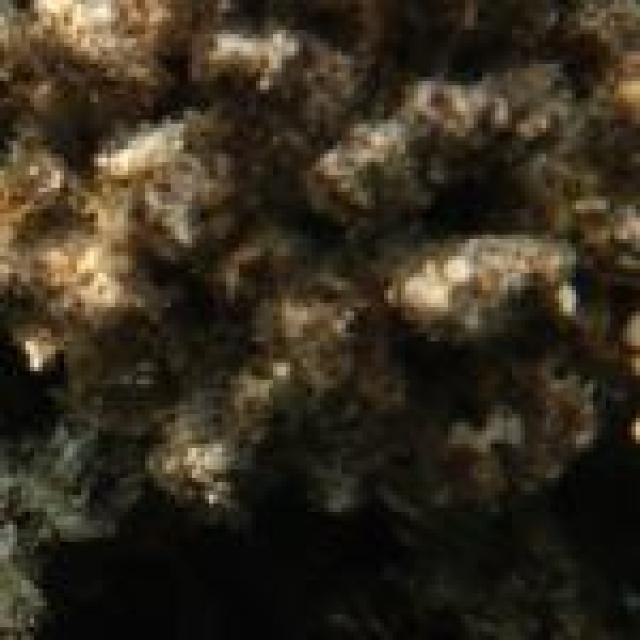Dead Coral: (6, 4, 640, 479)
